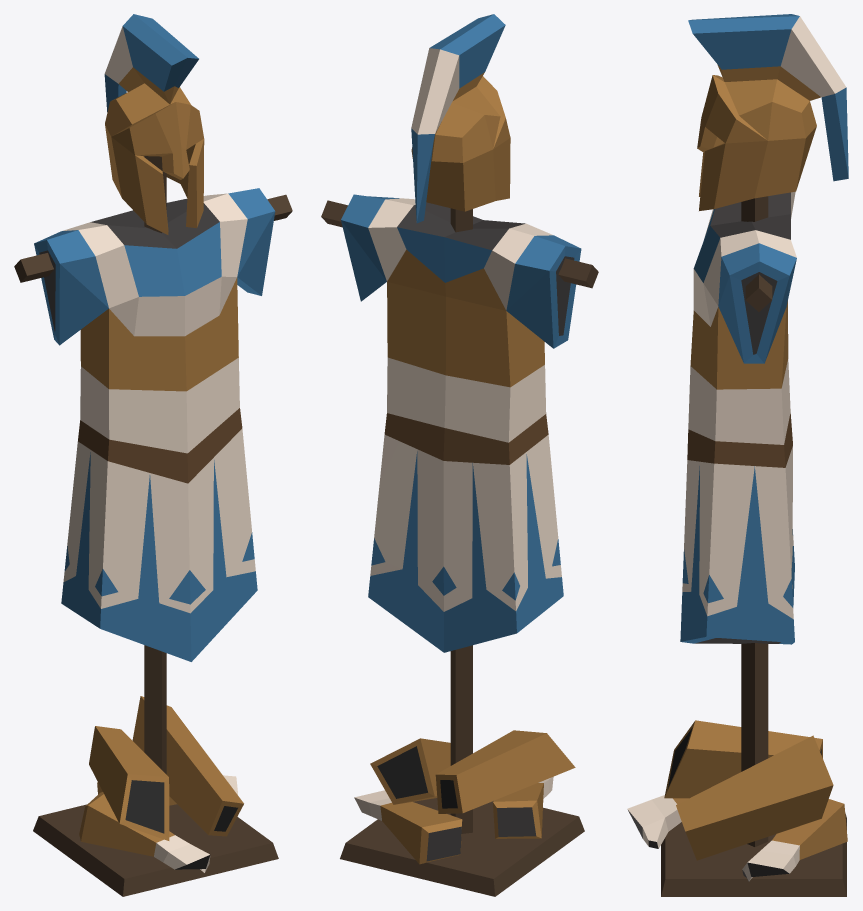
File: empire-armor-stand-greek-empire.glb
3 renders of one model, left to right at view 1: azimuth 30°, elevation 25°; view 2: azimuth 150°, elevation 25°; view 3: azimuth 270°, elevation 25°, orthographic. The views are drawn at different scales.
Visible parts, largest first — view 1: SM_Armor_Stand_Greek_Empire; view 2: SM_Armor_Stand_Greek_Empire; view 3: SM_Armor_Stand_Greek_Empire.
Boxes of the visible parts, x1,y1,x2,y2 form: SM_Armor_Stand_Greek_Empire: [14, 14, 292, 896]; SM_Armor_Stand_Greek_Empire: [321, 14, 598, 896]; SM_Armor_Stand_Greek_Empire: [627, 14, 848, 896].
Bounding box in the file's own units: 0.6689 × 1.96 × 0.4677.
